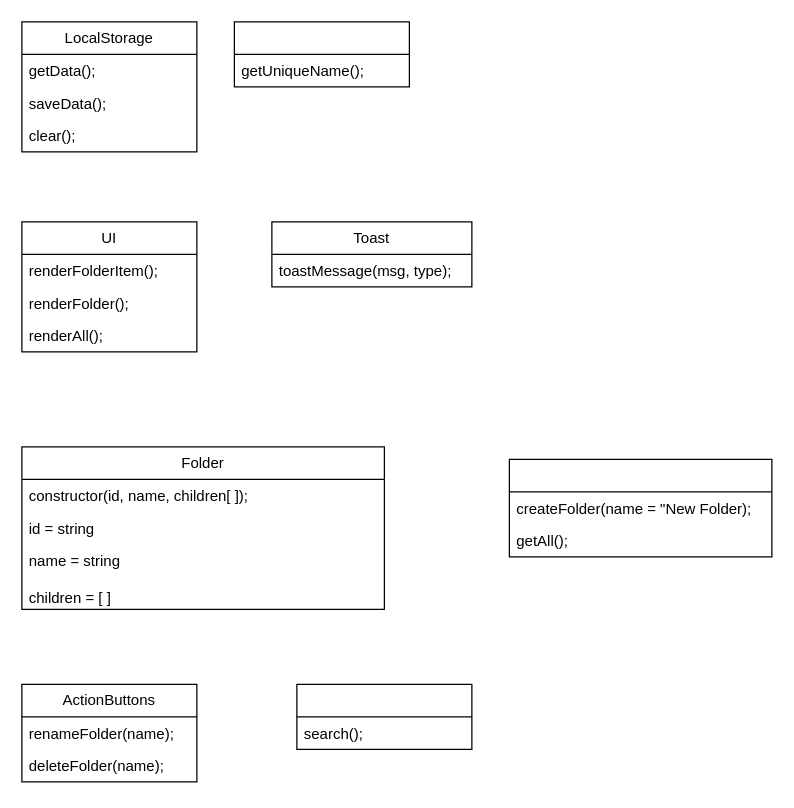
Image size: 794x808. Some labels were removed from this diagram. Each missing label, with the box of its shape:
FolderManager: (508, 458, 772, 557)
SearchItems: (296, 683, 472, 749)
Utils: (233, 21, 409, 87)
